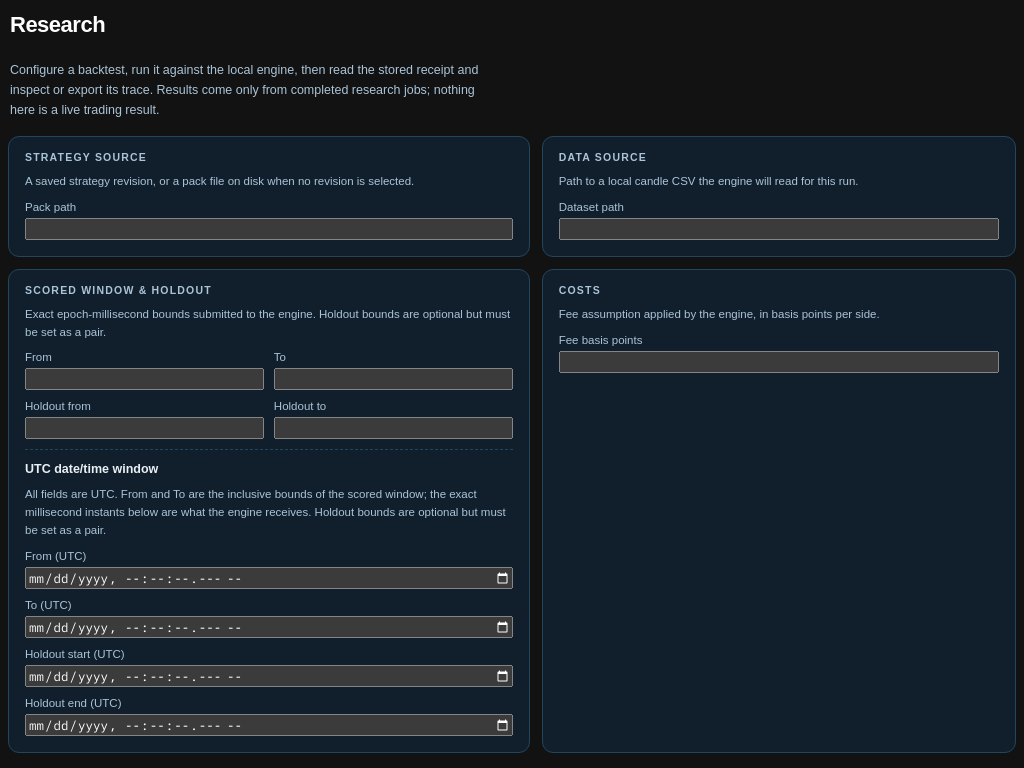
Test case: Research Cancel outcome honesty › clears the job id and Cancel control on first-attempt success
In the field labelled "Dataset path": (779, 229) [559,218,999,240], type "LOCAL-CANCEL-FIXTURE.csv"
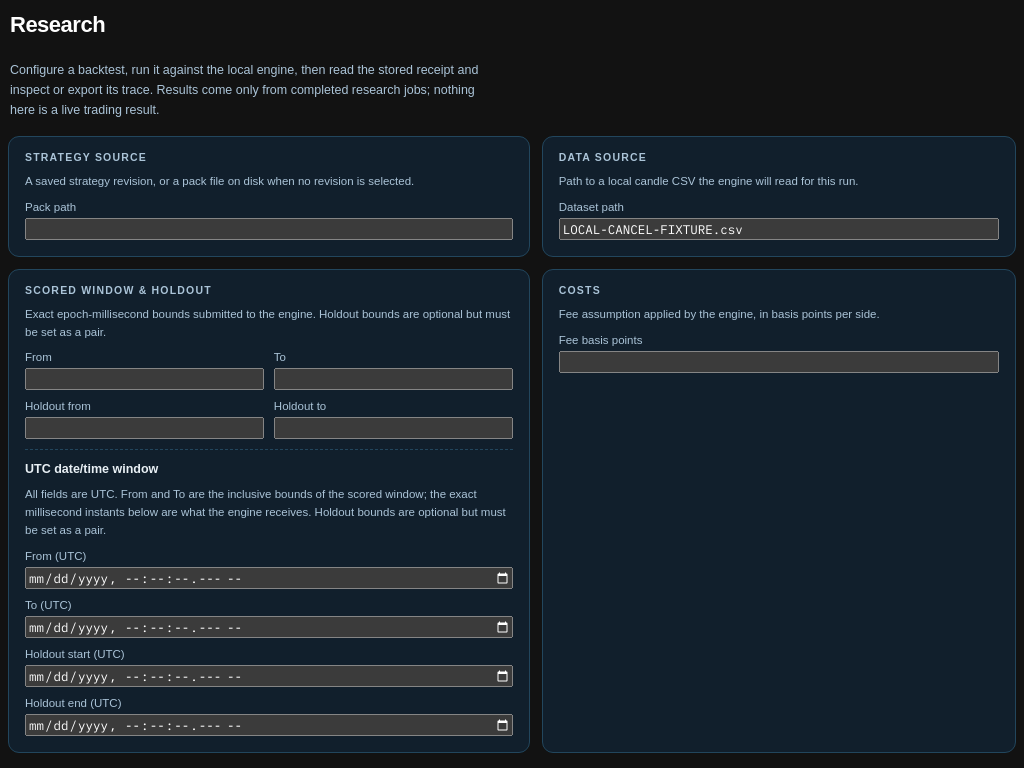
In the field labelled "Fee basis points": (779, 362) [559,351,999,373], type "40"
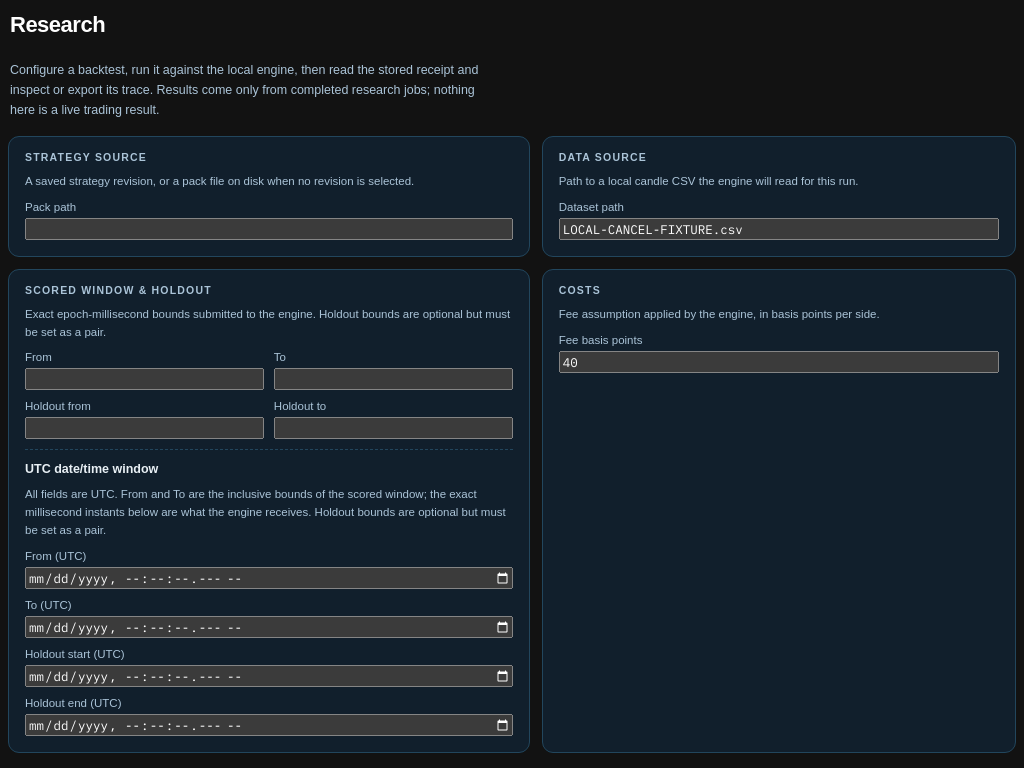
In the field labelled "From": (144, 379) [25,368,264,390], type "0"
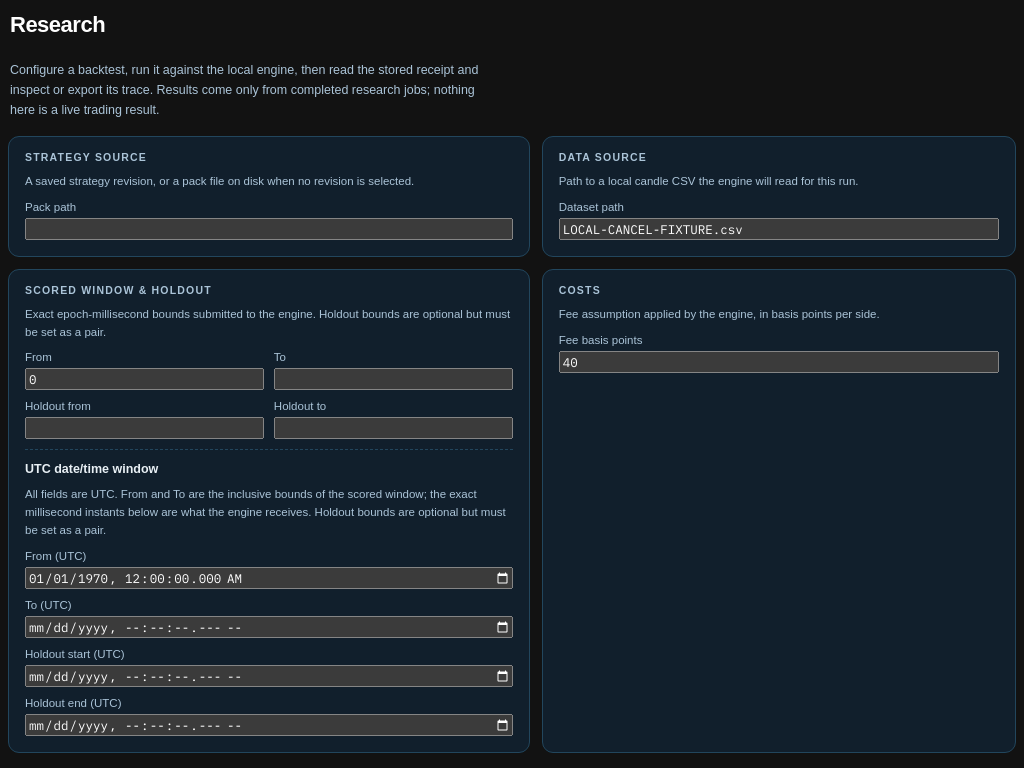
In the field labelled "To": (393, 379) [274,368,513,390], type "1000"
(page scrolled)
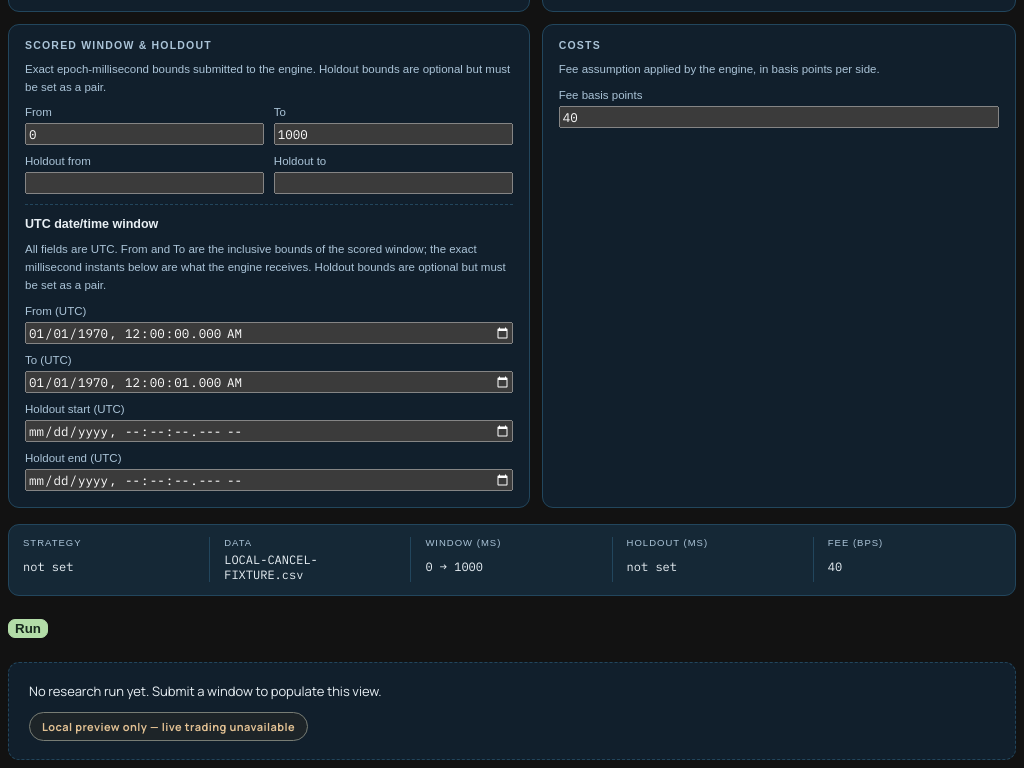
Click the button "Run": (28, 629) [8,619,48,638]
(page scrolled)
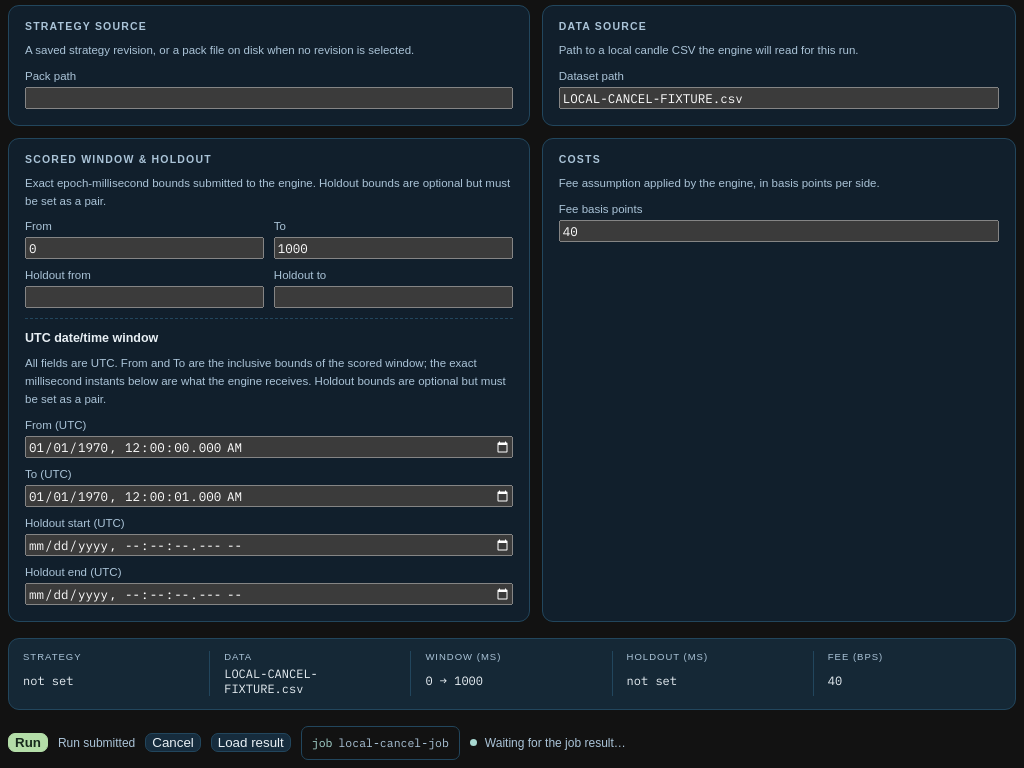
Now the element with test id "research-job-id" is shown, box [301,726,460,760]
Click the button "Cancel": (173, 743) [145,733,201,752]
(page scrolled)
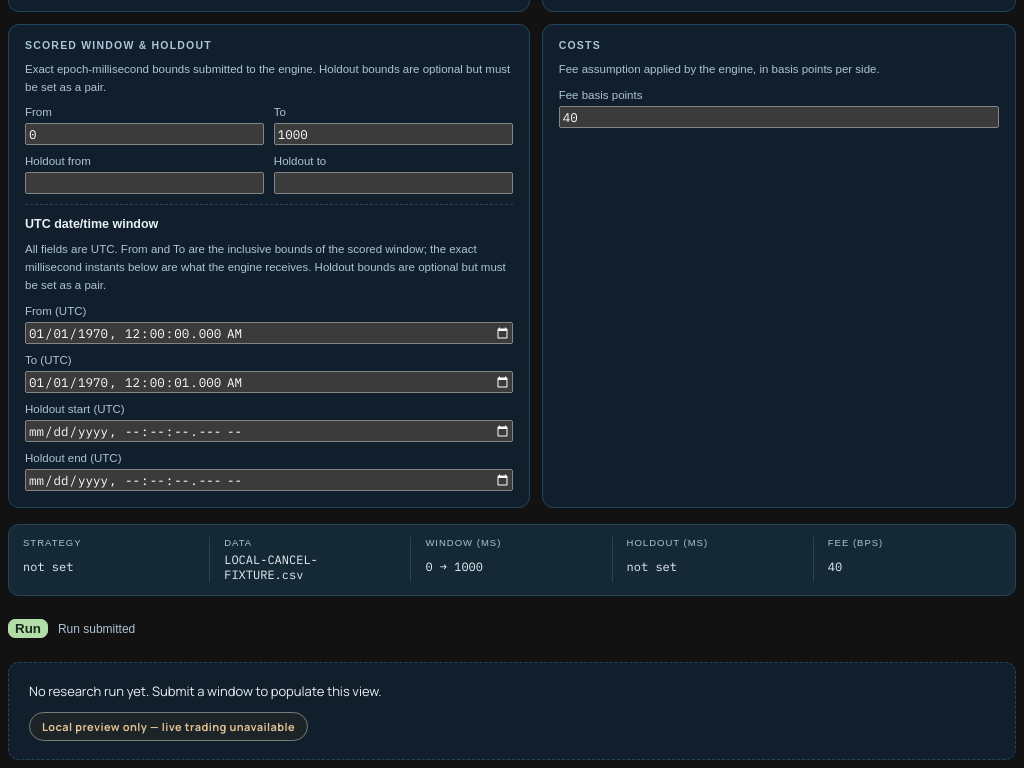
Now the element with test id "research-job-id" is gone
